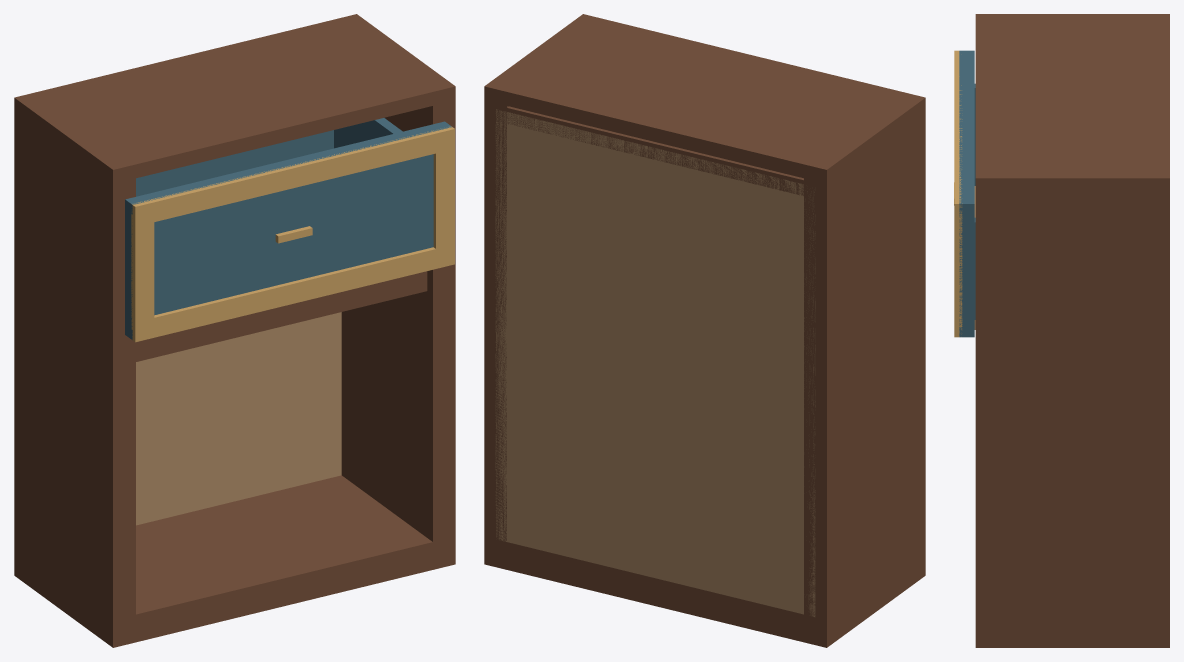
The picture shows the model from 3 angles, left to right: view 1: azimuth 30°, elevation 25°; view 2: azimuth 150°, elevation 25°; view 3: azimuth 270°, elevation 25°; orthographic projection.
Parts seen in each view (by area): view 1: cabinet-side-left, cabinet-top, cabinet-bottom, cabinet-inner-back, drawer-front, cabinet-side-right, drawer-frame-top, drawer-frame-bottom, cabinet-drawer-divider, drawer-back, drawer-frame-left, drawer-frame-right (+1 smaller); view 2: cabinet-inner-back, cabinet-side-left, cabinet-top, cabinet-bottom, cabinet-side-right, cabinet-back-rail; view 3: cabinet-side-right, cabinet-top, drawer-front, cabinet-bottom, drawer-frame-top, drawer-frame-right.
Part boxes in pixels (x1,y1,x2,y2): cabinet-side-left: [14, 110, 135, 627]; cabinet-top: [14, 14, 455, 183]; cabinet-bottom: [14, 475, 455, 647]; cabinet-inner-back: [136, 312, 341, 525]; drawer-front: [125, 121, 451, 339]; cabinet-side-right: [341, 98, 455, 549]; drawer-frame-top: [131, 126, 454, 226]; drawer-frame-bottom: [132, 245, 454, 342]; cabinet-drawer-divider: [136, 271, 427, 361]; drawer-back: [136, 130, 333, 196]; drawer-frame-left: [131, 212, 154, 332]; drawer-frame-right: [433, 140, 454, 255]; cabinet-inner-back: [495, 109, 815, 616]; cabinet-side-left: [804, 110, 925, 625]; cabinet-top: [484, 14, 925, 183]; cabinet-bottom: [484, 538, 925, 647]; cabinet-side-right: [484, 98, 508, 549]; cabinet-back-rail: [495, 105, 815, 198]; cabinet-side-right: [975, 190, 1169, 628]; cabinet-top: [975, 14, 1169, 191]; drawer-front: [959, 50, 974, 337]; cabinet-bottom: [975, 621, 1169, 647]; drawer-frame-top: [954, 50, 962, 223]; drawer-frame-right: [954, 214, 962, 327].
Size of the model in its own units: 0.9 by 1.2 by 0.5.
